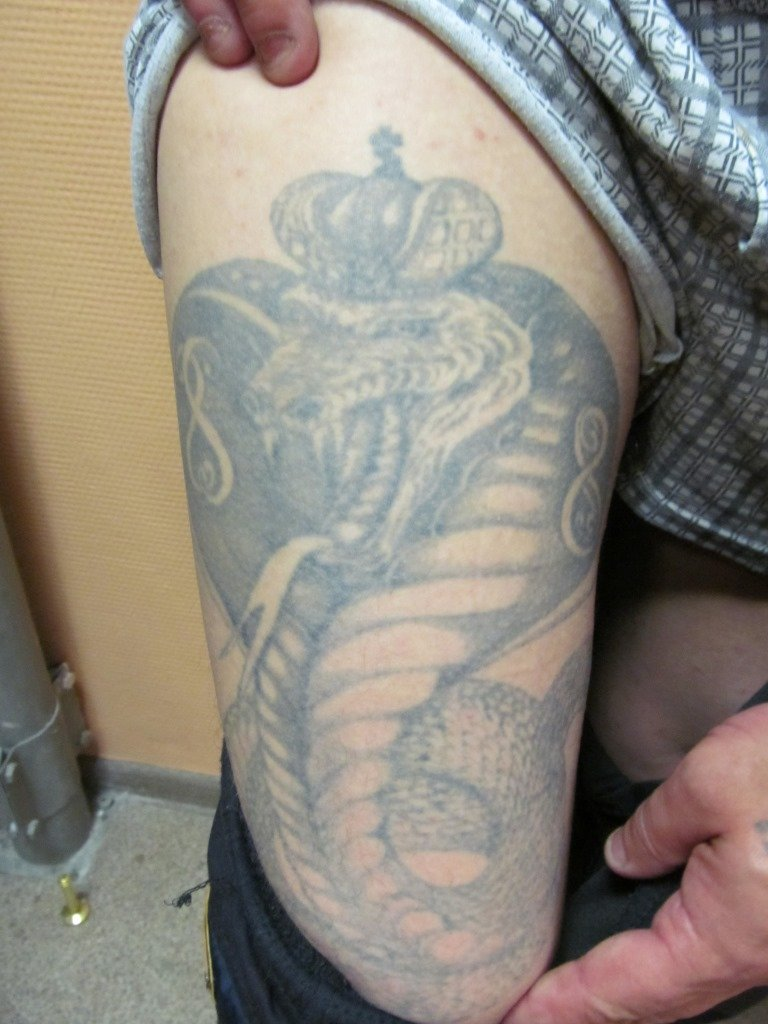tatu7_zmeya: (145, 189, 720, 764)
